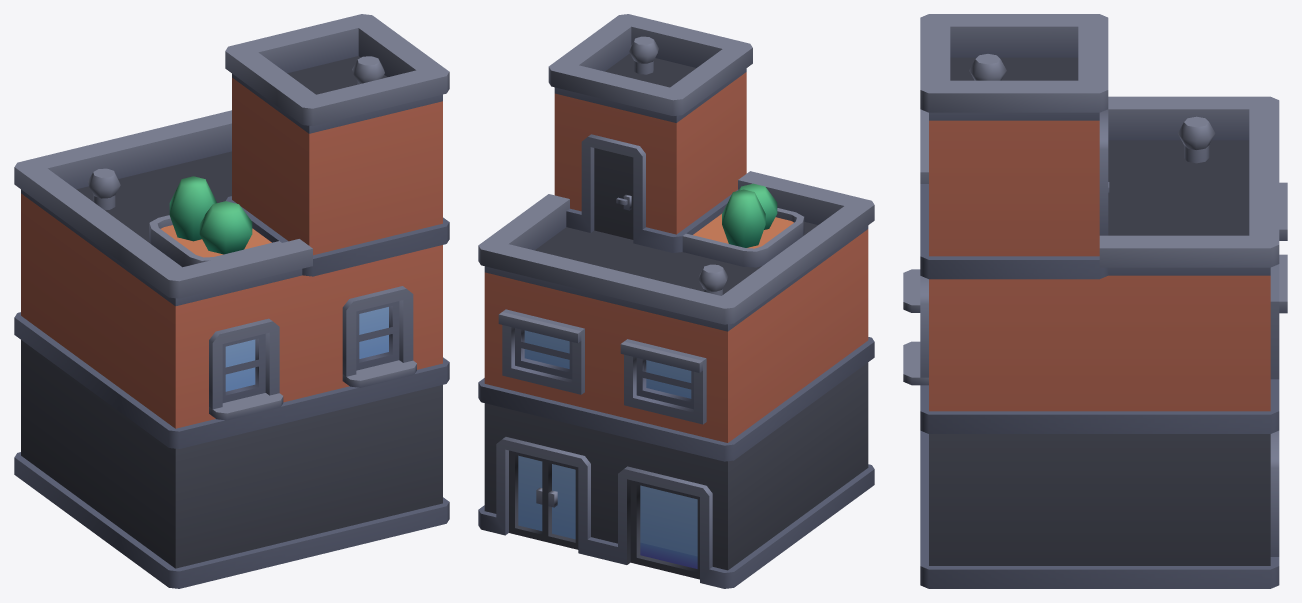
Rendered from building-d-b.glb.
3 renders of one model, left to right at view 1: azimuth 30°, elevation 25°; view 2: azimuth 150°, elevation 25°; view 3: azimuth 270°, elevation 25°, orthographic. The views are drawn at different scales.
Visible parts, largest first — view 1: building-d; view 2: building-d; view 3: building-d.
Part boxes in pixels (x1=…): building-d: x1=14, y1=14, x2=449, y2=588; building-d: x1=478, y1=14, x2=874, y2=588; building-d: x1=903, y1=14, x2=1287, y2=588.
Size of the model in its own units: 0.84 by 1.29 by 0.9.
1 material, 1 textured.
